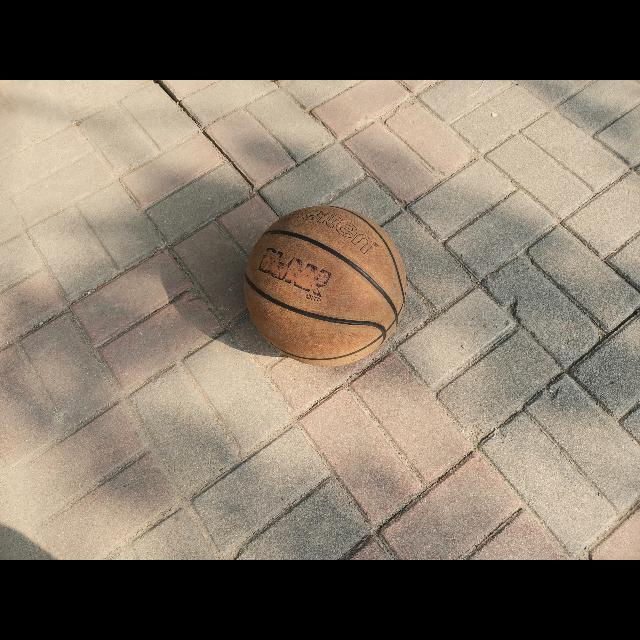basketball: (245, 206, 408, 366)
